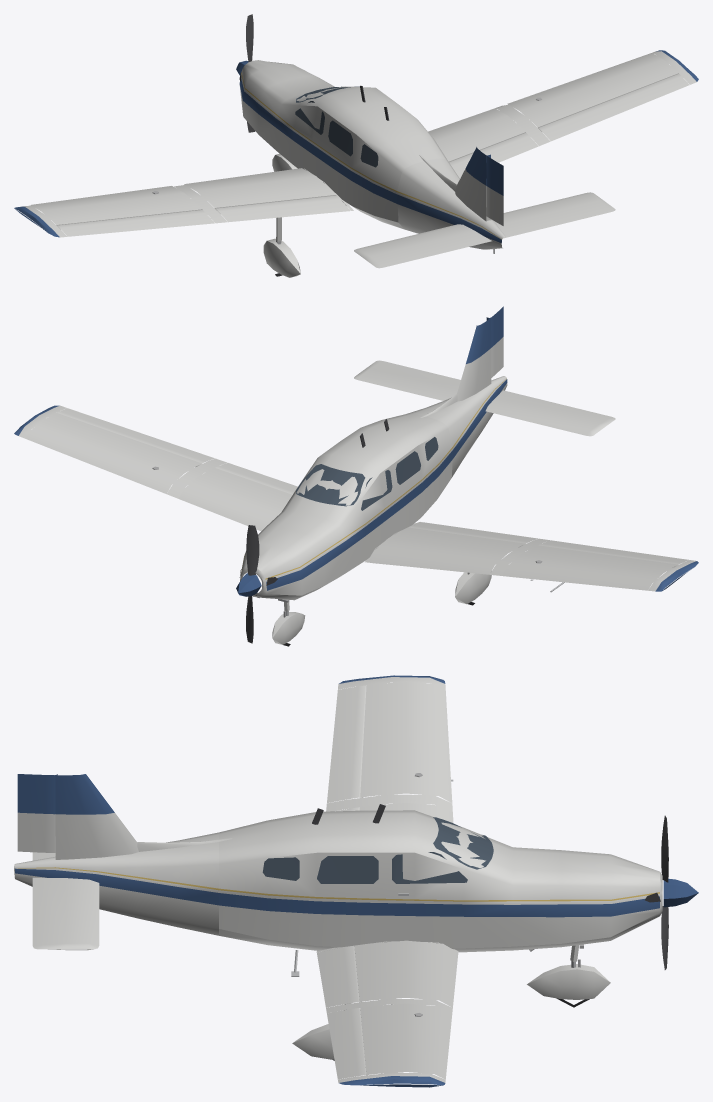
Rendered from archer-far.glb.
3 views of the same model, one above another, from view 1: azimuth 30°, elevation 25°; view 2: azimuth 150°, elevation 25°; view 3: azimuth 270°, elevation 25° (orthographic). The views are drawn at different scales.
Parts seen in each view (by area): view 1: body, cabin, stab, ailR, ailL, flapL, flapR, gearL, rud, prop; view 2: body, cabin, stab, ailR, prop, ailL, flapL, gearN, gearL, rud, flapR; view 3: cabin, body, stab, ailL, rud, gearN, ailR, flapR, prop, gearR.
Part boxes in pixels (x1=…): body: x1=14, y1=50, x2=698, y2=253; cabin: x1=239, y1=60, x2=447, y2=229; stab: x1=354, y1=192, x2=615, y2=268; ailR: x1=538, y1=73, x2=689, y2=141; ailL: x1=57, y1=210, x2=214, y2=236; flapL: x1=215, y1=195, x2=350, y2=222; flapR: x1=449, y1=132, x2=538, y2=178; gearL: x1=263, y1=217, x2=300, y2=277; rud: x1=486, y1=156, x2=503, y2=225; prop: x1=236, y1=14, x2=255, y2=132; body: x1=14, y1=318, x2=698, y2=592; cabin: x1=239, y1=414, x2=453, y2=600; stab: x1=354, y1=360, x2=615, y2=436; ailR: x1=57, y1=408, x2=214, y2=466; prop: x1=236, y1=525, x2=261, y2=643; ailL: x1=538, y1=540, x2=688, y2=566; flapL: x1=409, y1=522, x2=537, y2=546; gearN: x1=272, y1=599, x2=305, y2=646; gearL: x1=455, y1=571, x2=491, y2=605; rud: x1=486, y1=306, x2=503, y2=377; flapR: x1=215, y1=463, x2=297, y2=494; cabin: x1=219, y1=804, x2=662, y2=952; body: x1=14, y1=675, x2=458, y2=1087; stab: x1=32, y1=852, x2=99, y2=950; ailL: x1=327, y1=685, x2=366, y2=802; rud: x1=17, y1=774, x2=57, y2=852; gearN: x1=527, y1=944, x2=610, y2=1007; ailR: x1=327, y1=1008, x2=367, y2=1079; flapR: x1=317, y1=946, x2=361, y2=1007; prop: x1=661, y1=815, x2=698, y2=969; gearR: x1=292, y1=1003, x2=351, y2=1060.
Bounding box in the file's own units: 10.82 × 2.89 × 7.72.
